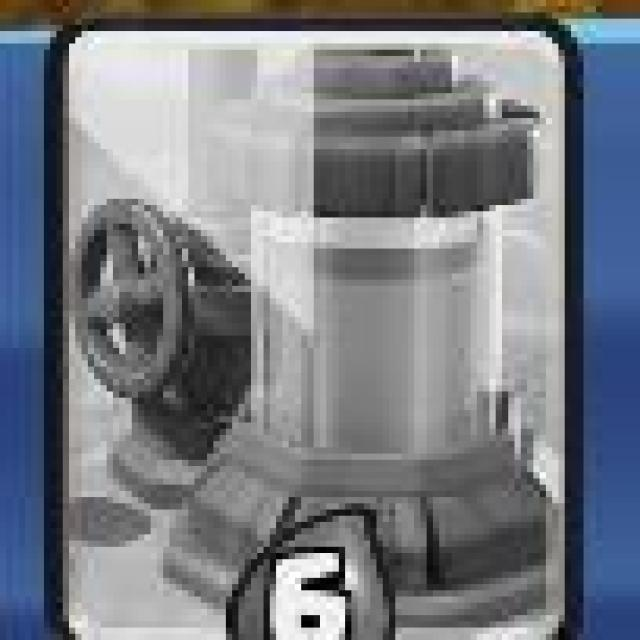Elixir_Pump: (41, 19, 581, 640)
